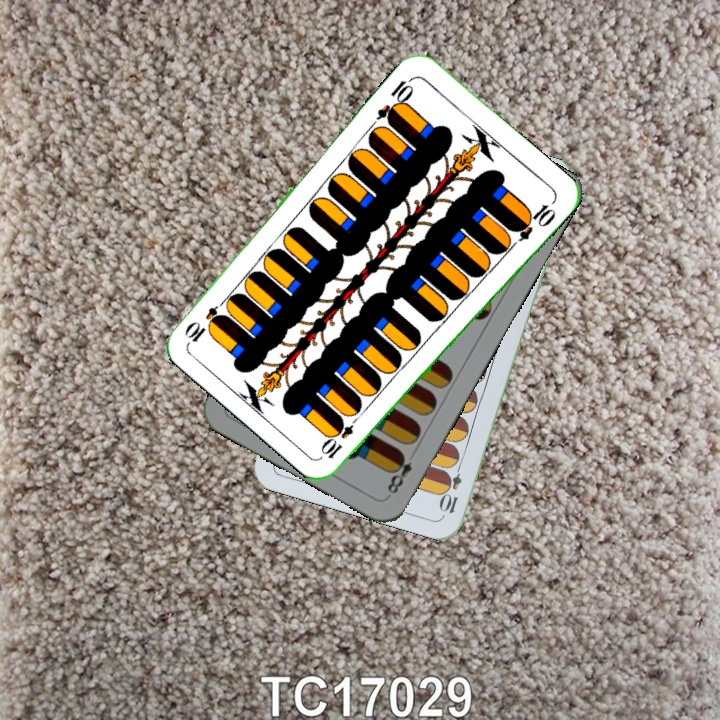E10: (318, 409, 364, 462), (373, 73, 417, 127), (438, 457, 465, 516)
E8: (383, 448, 415, 499)
